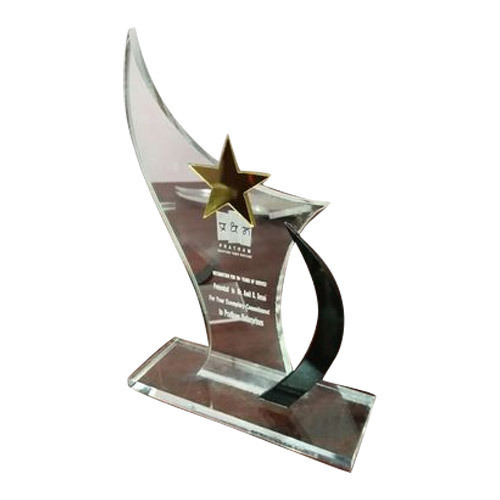trophy: (119, 27, 382, 478)
